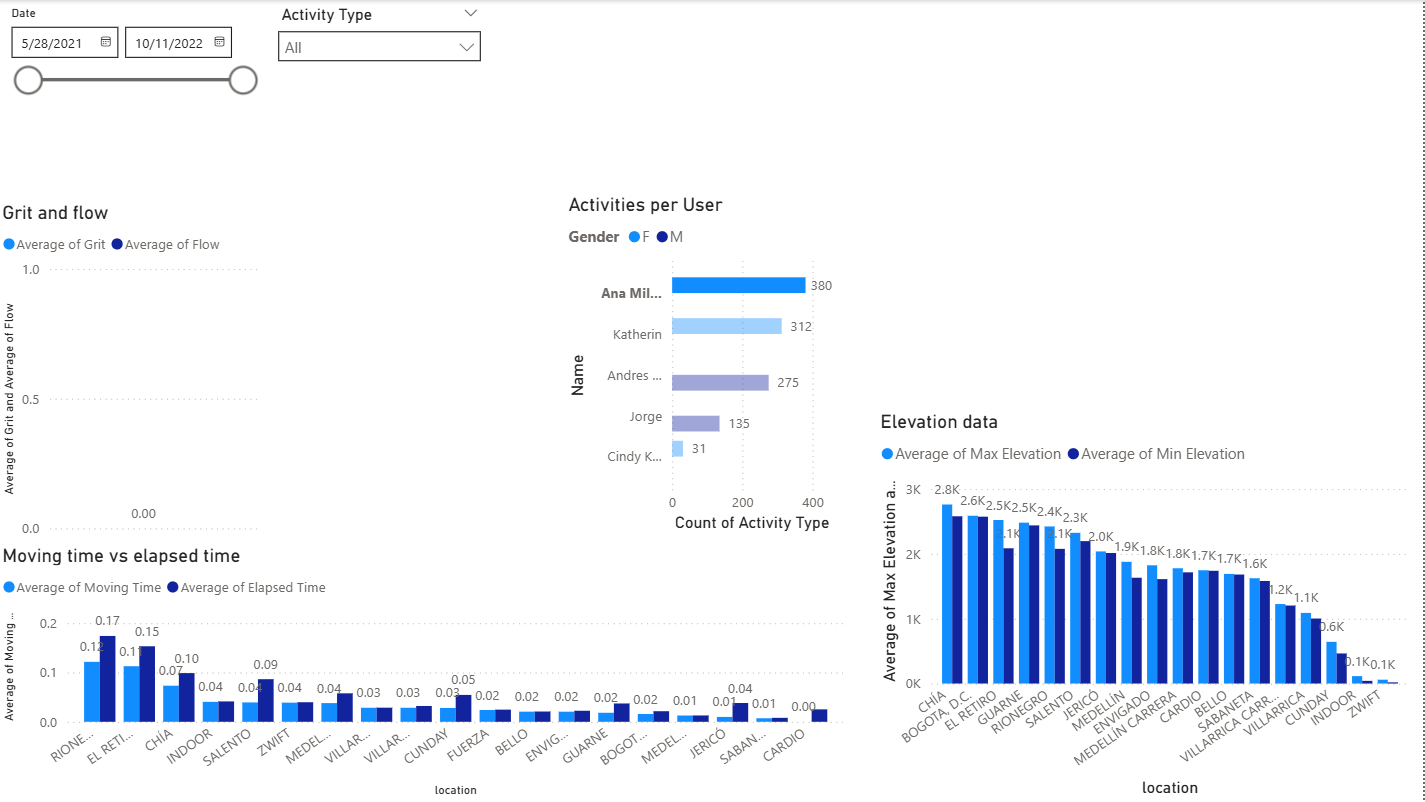

Layout of this report page (visuals, bound fields, positions):
{"tool":"powerbi","page":{"name":"Page 4 Additional Metrics","canvas":[1280,720],"ordinal":3},"visuals":[{"type":"slicer","fields":{"Values":["BBDD.Date"]},"box":[0,0,242.4,98.8],"z":0},{"type":"slicer","fields":{"Values":["BBDD.Activity Type"]},"box":[242.4,0,202,73.6],"z":1000},{"type":"clusteredColumnChart","title":"Elevation data","fields":{"Y":["Avg(BBDD.Max Elevation)","Avg(BBDD.Min Elevation)"],"Category":["BBDD.location"]},"box":[788.2,368.1,483.9,351.9],"z":2000},{"type":"clusteredColumnChart","title":"Moving time vs elapsed time","fields":{"Y":["Avg(BBDD.Moving Time)","Avg(BBDD.Elapsed Time)"],"Category":["BBDD.location"]},"box":[0,488.4,764.9,231.6],"z":3000},{"type":"clusteredColumnChart","title":"Grit and flow","fields":{"Y":["Avg(BBDD.Grit)","Avg(BBDD.Flow)"]},"box":[0,180.4,242.4,307.9],"z":4000},{"type":"clusteredBarChart","title":"Activities per User","fields":{"Category":["dimUser.Name"],"Series":["dimUser.Gender"],"Y":["CountNonNull(BBDD.Activity Type)"]},"box":[508.1,173.3,256.8,308.8],"z":5000}]}

Visuals, with their boxes in screenshot pixels (x1, y1, x2, y2), scaled from the page's 1280x720 canvas onto the 1425x802 screenshot:
slicer - BBDD.Date: [0, 0, 270, 110]
slicer - BBDD.Activity Type: [270, 0, 495, 82]
"Elevation data" clusteredColumnChart: [877, 410, 1416, 801]
"Moving time vs elapsed time" clusteredColumnChart: [0, 544, 852, 801]
"Grit and flow" clusteredColumnChart: [0, 201, 270, 544]
"Activities per User" clusteredBarChart: [566, 193, 852, 537]
